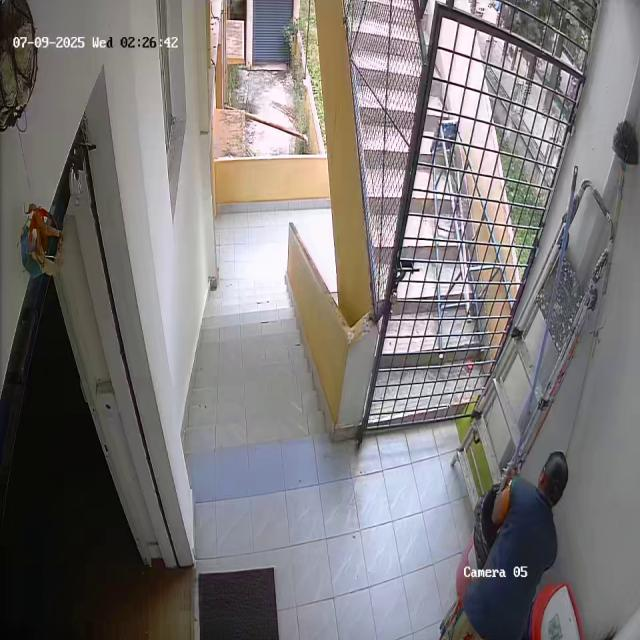person: (470, 446, 580, 640)
